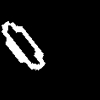chain: (2, 21, 44, 69)
